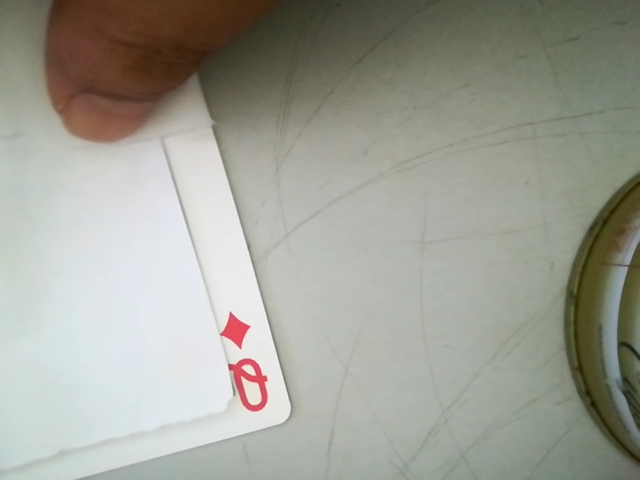fk q: (212, 305, 279, 424)
